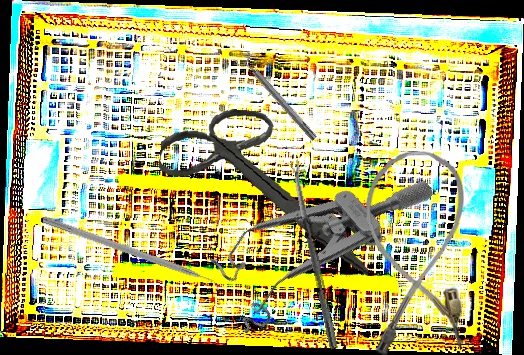Cannula: (365, 149, 467, 355)
Chopper: (38, 215, 226, 299)
Fixation Ring: (233, 49, 322, 146)
Iris Scissors: (149, 101, 384, 277)
Speculum: (193, 118, 436, 350)
Surgical Spoon: (290, 159, 339, 350)
